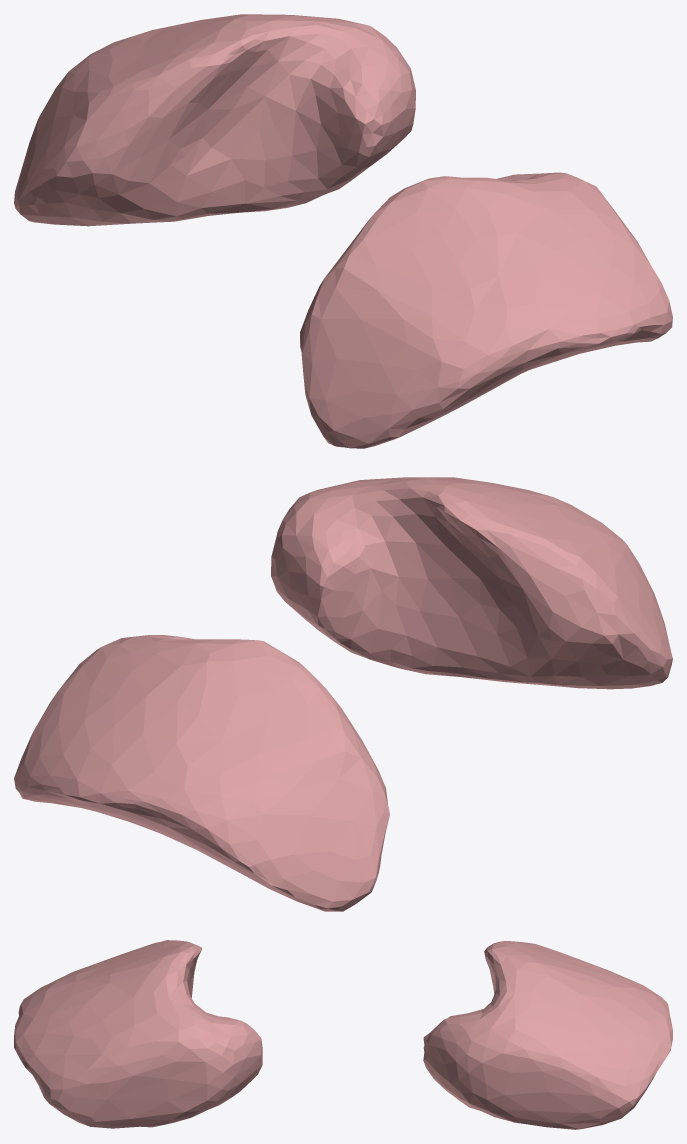
3 renders of one model, top to bottom at view 1: azimuth 30°, elevation 25°; view 2: azimuth 150°, elevation 25°; view 3: azimuth 270°, elevation 25°, orthographic. The views are drawn at different scales.
Parts seen in each view (by area): view 1: 685.obj; view 2: 685.obj; view 3: 685.obj.
Part boxes in pixels (bbox=[...]): 685.obj: bbox=[14, 14, 672, 448]; 685.obj: bbox=[14, 477, 672, 911]; 685.obj: bbox=[14, 940, 672, 1129].
Bounding box in the file's own units: 1367 × 746 × 2901.
